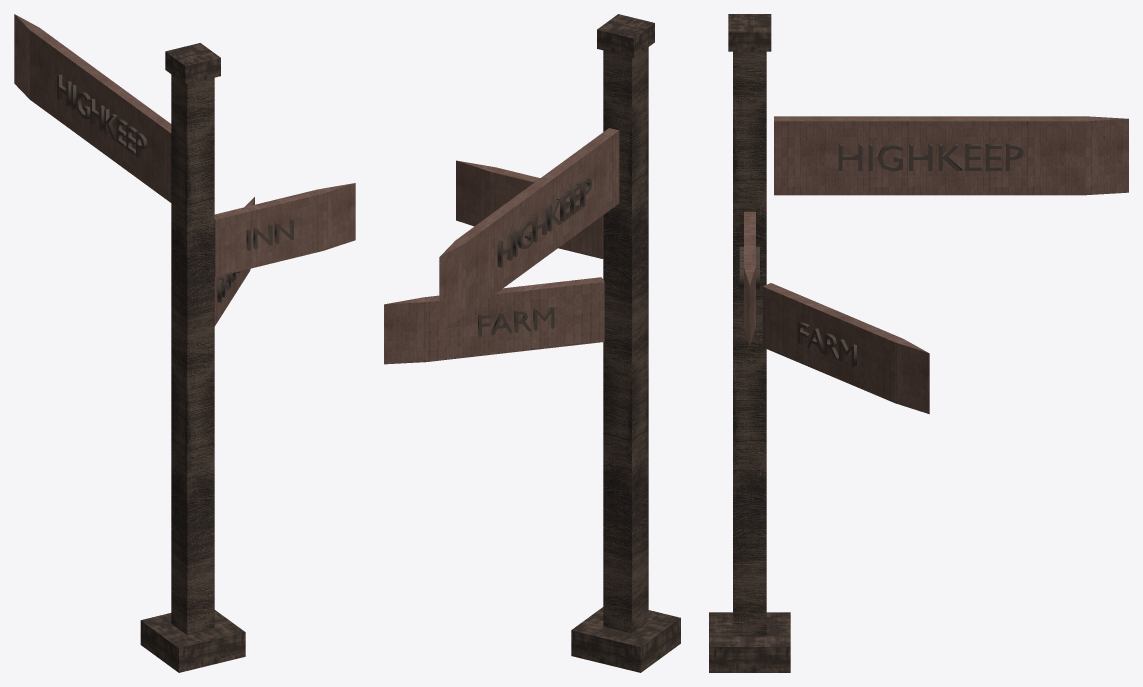
Rendered from prop_signpost_named.glb.
3 views of the same model, side by side, from view 1: azimuth 30°, elevation 25°; view 2: azimuth 150°, elevation 25°; view 3: azimuth 270°, elevation 25° (orthographic). The views are drawn at different scales.
Parts seen in each view (by area): view 1: prop_signpost_named; view 2: prop_signpost_named; view 3: prop_signpost_named.
Boxes of the visible parts, x1,y1,x2,y2 form: prop_signpost_named: (14, 14, 355, 672); prop_signpost_named: (384, 14, 680, 672); prop_signpost_named: (709, 14, 1128, 672).
Size of the model in its own units: 1 by 2.91 by 1.75.
3 materials, 2 textured.
